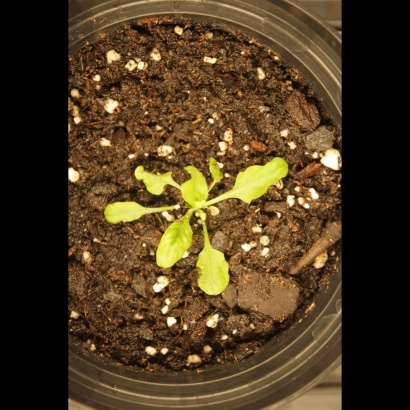leaf: (233, 154, 292, 208), (191, 237, 235, 300), (154, 210, 195, 272), (126, 156, 172, 197), (179, 163, 212, 211), (106, 196, 152, 230), (200, 150, 231, 189)
